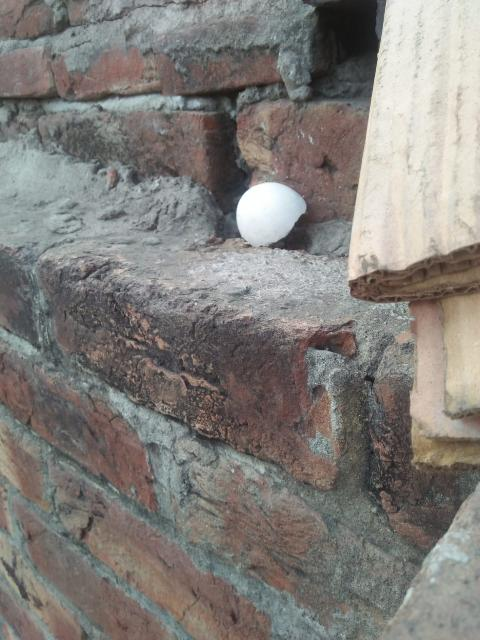Roto: (235, 181, 307, 248)
